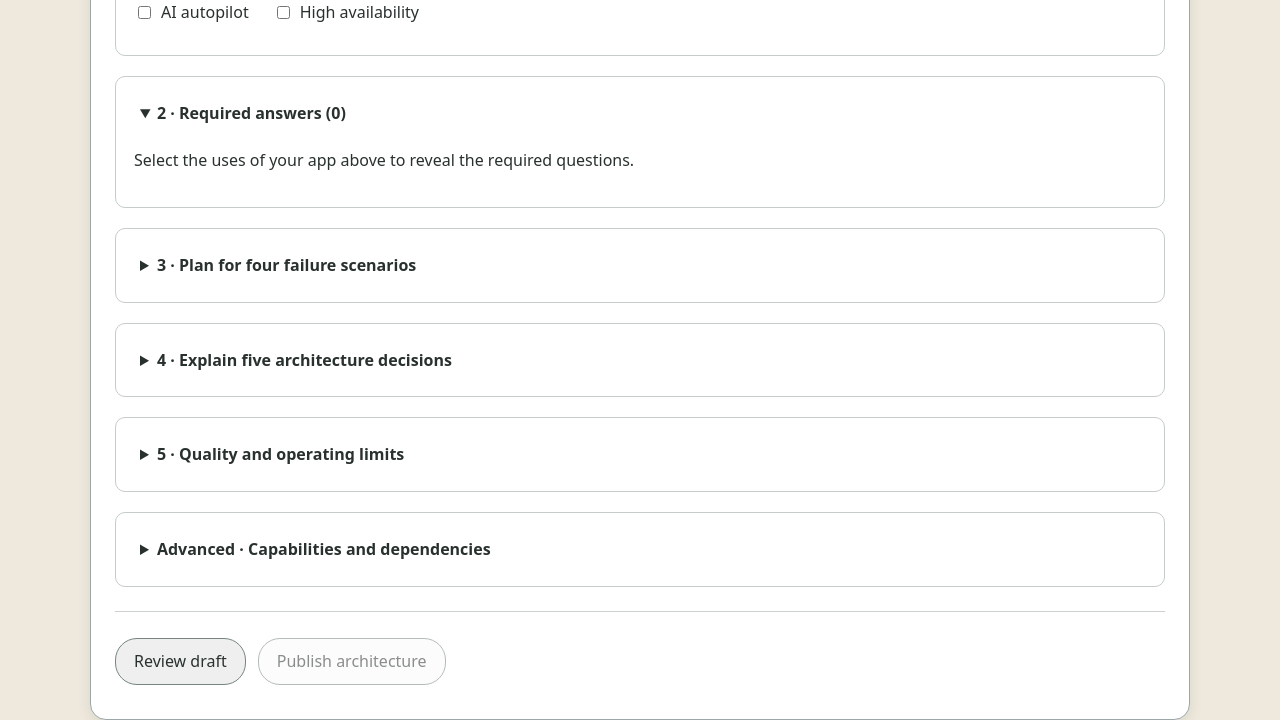
Test: architecture draft authoring › starts blank, blocks publication and never manufactures required answers
(page scrolled)
Click the button "Review draft": (180, 661) [115,638,246,685]
(page scrolled)
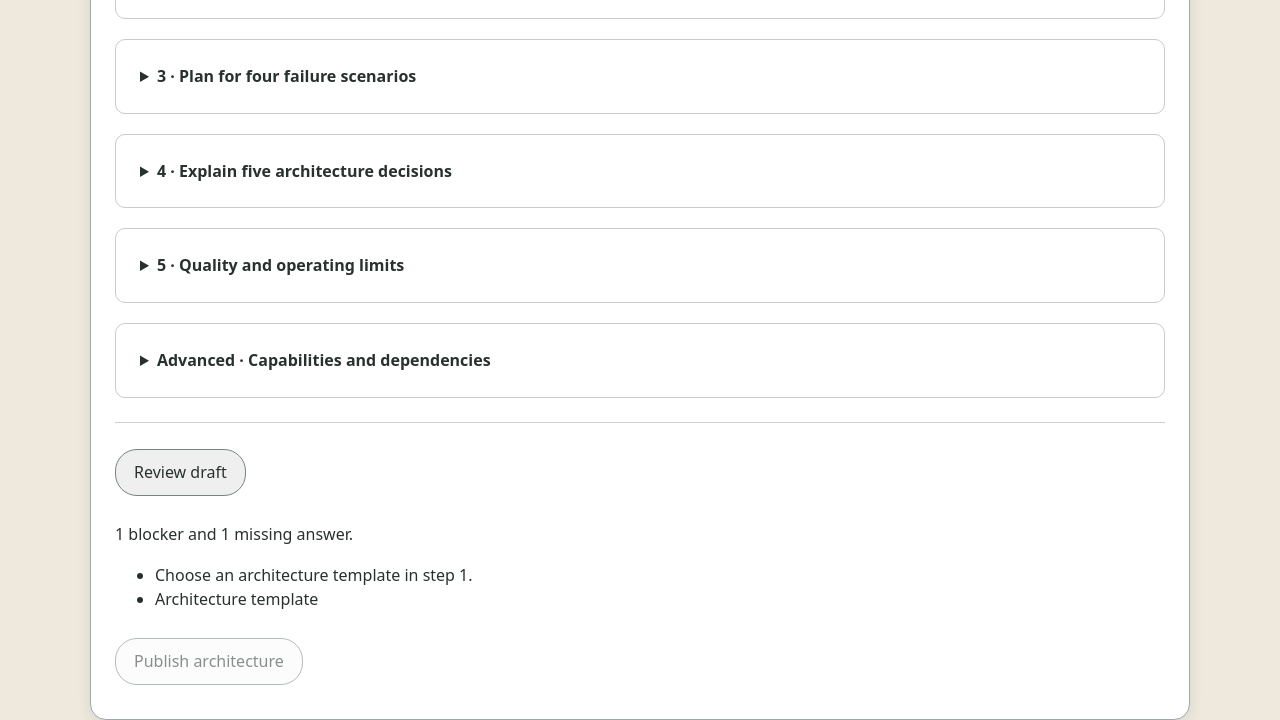
expect the button "Publish architecture" is disabled: met, box [115,638,303,685]
expect the text "1 blocker and 1 missing answer." is shown: met, box [115,523,353,545]
